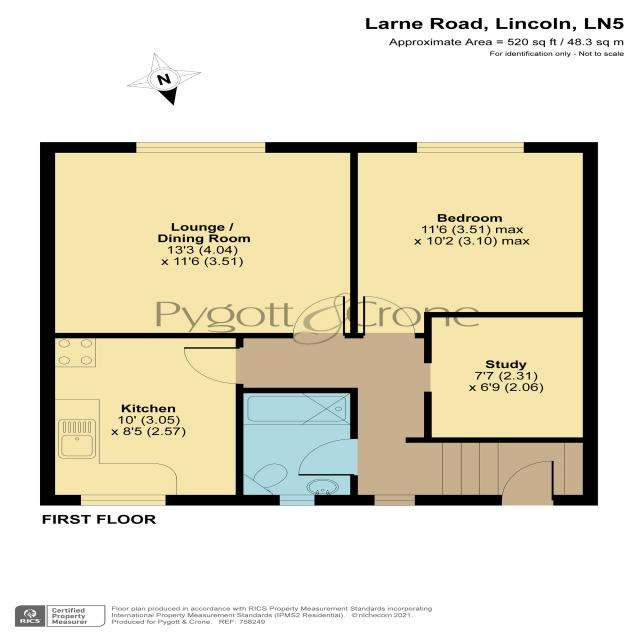DOOR: (497, 457, 559, 506), (178, 344, 243, 388), (360, 294, 420, 338), (289, 293, 347, 338), (295, 437, 358, 477)
ROOM: (40, 141, 360, 338), (350, 142, 598, 339), (39, 333, 243, 506)
WINDOW: (133, 138, 269, 156), (413, 139, 528, 156), (79, 493, 168, 507), (372, 493, 418, 507), (278, 494, 316, 506)
